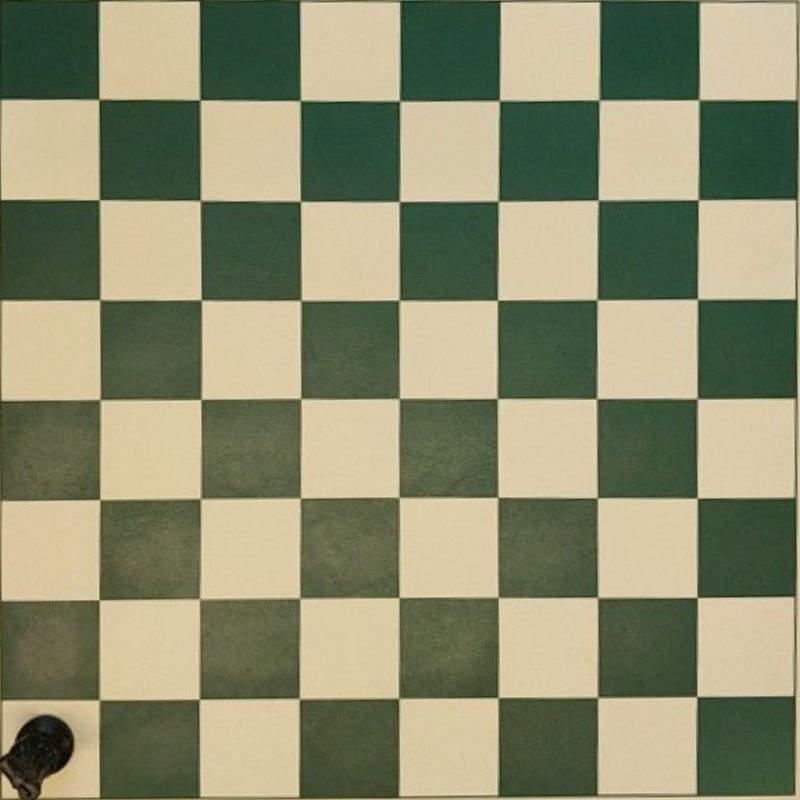black-knight: (1, 714, 75, 799)
